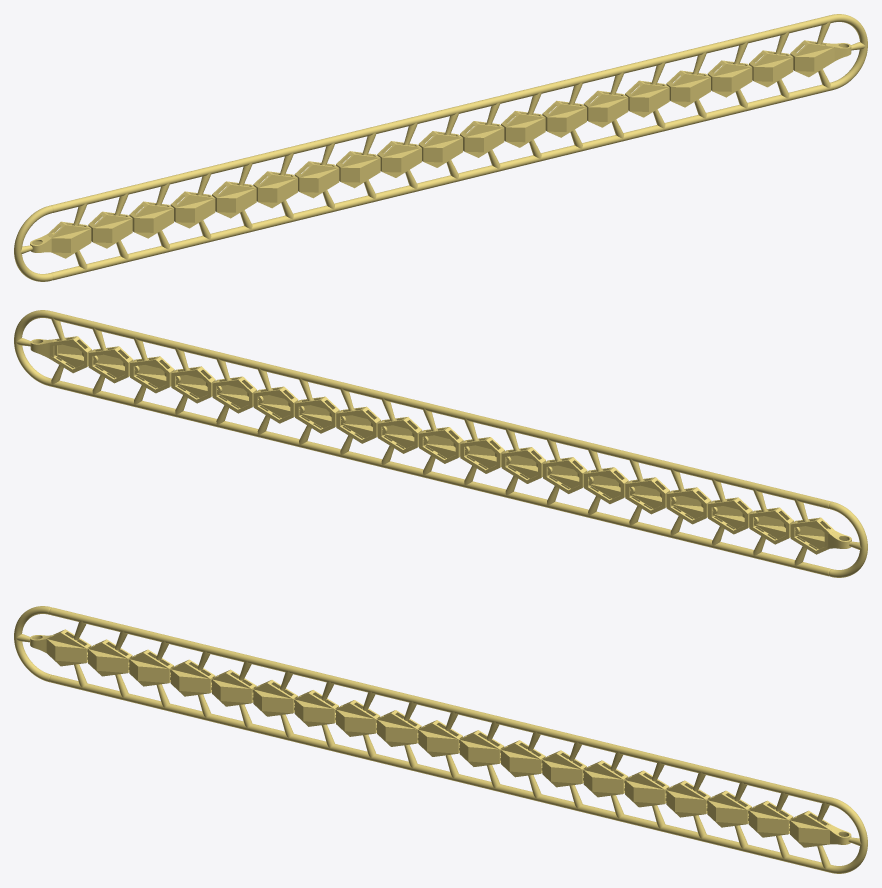
Rendered from yzn5-109.glb.
The picture shows the model from 3 angles, top to bottom: view 1: azimuth 30°, elevation 25°; view 2: azimuth 150°, elevation 25°; view 3: azimuth 330°, elevation 25°; orthographic projection.
Parts seen in each view (by area): view 1: Renderer Node; view 2: Renderer Node; view 3: Renderer Node.
Part boxes in pixels (x1,y1,x2,y2): Renderer Node: [14, 14, 867, 281]; Renderer Node: [14, 310, 867, 577]; Renderer Node: [14, 606, 867, 873].
Size of the model in its own units: 186 by 15.54 by 4.27.
